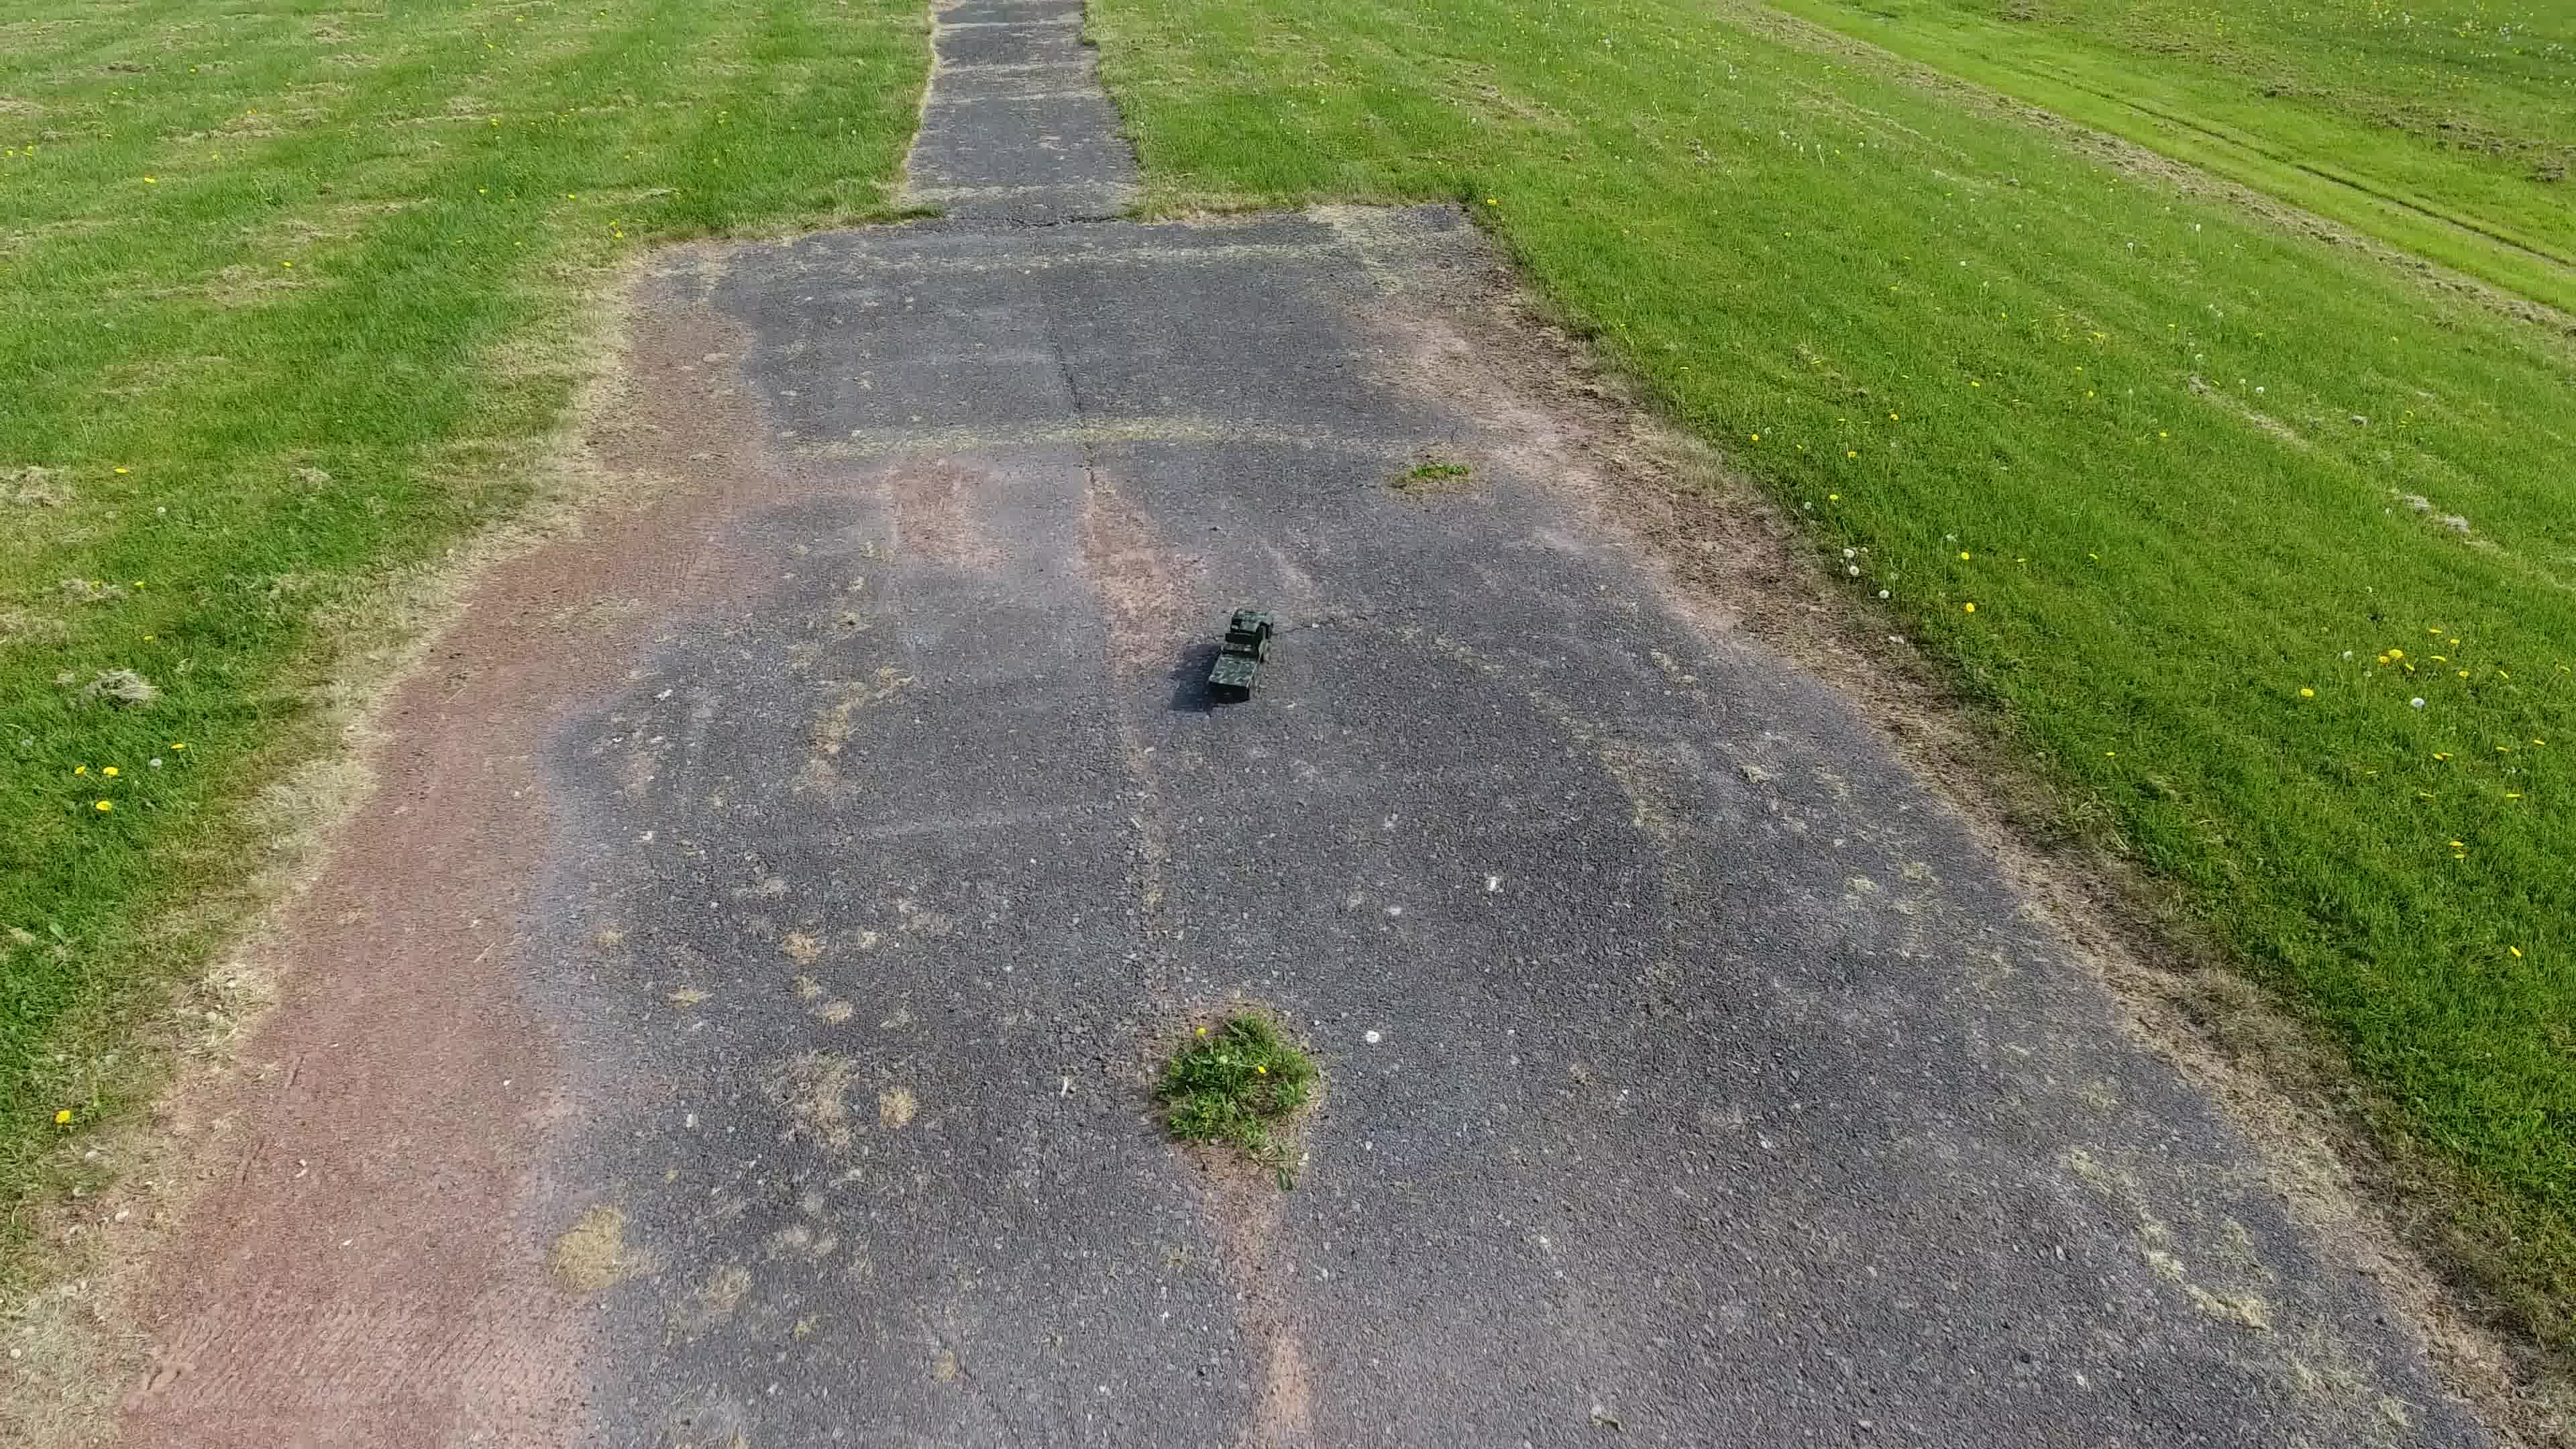transporter9_camo: (1196, 605, 1281, 704)
